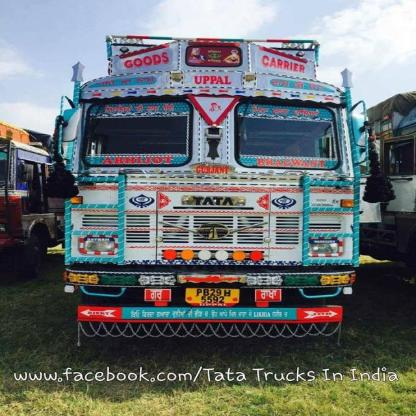truck: (60, 35, 364, 339)
